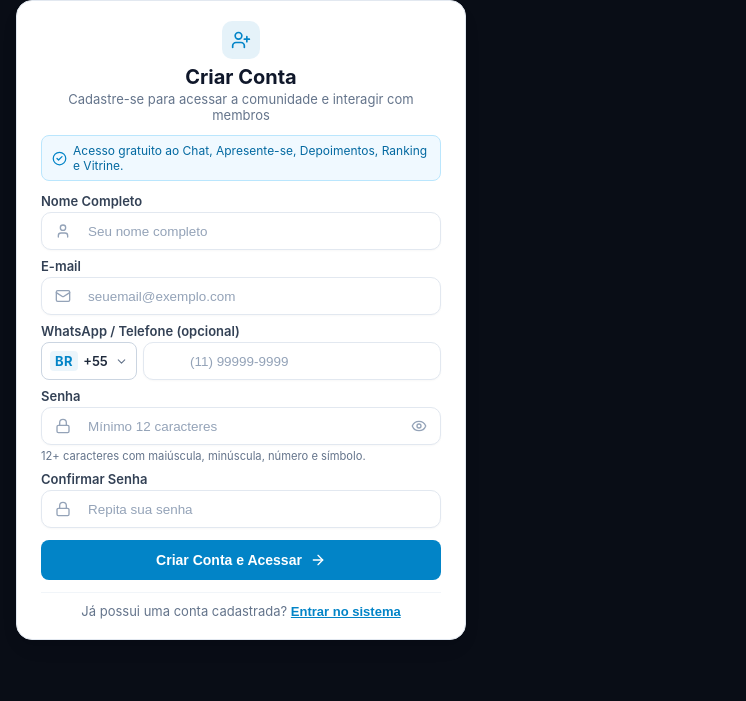
Test: PublicRegisterCard Component › shows error if password and confirm password do not match
Type "Aluno Teste" into the field with test id "register-name-input" at (241, 231), box top-left (41, 212), bottom-right (441, 250)
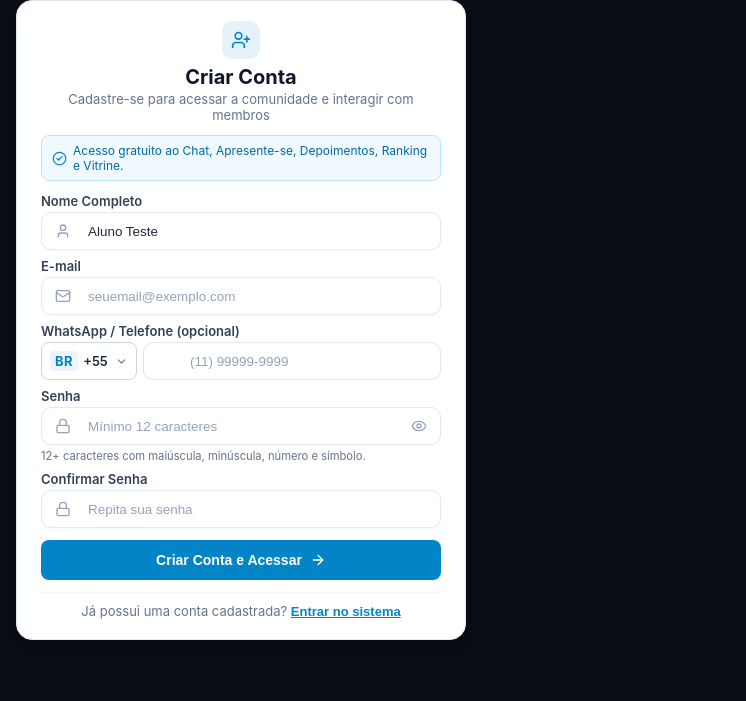
Type "aluno@teste.com" into the field with test id "register-email-input" at (241, 296), box top-left (41, 277), bottom-right (441, 315)
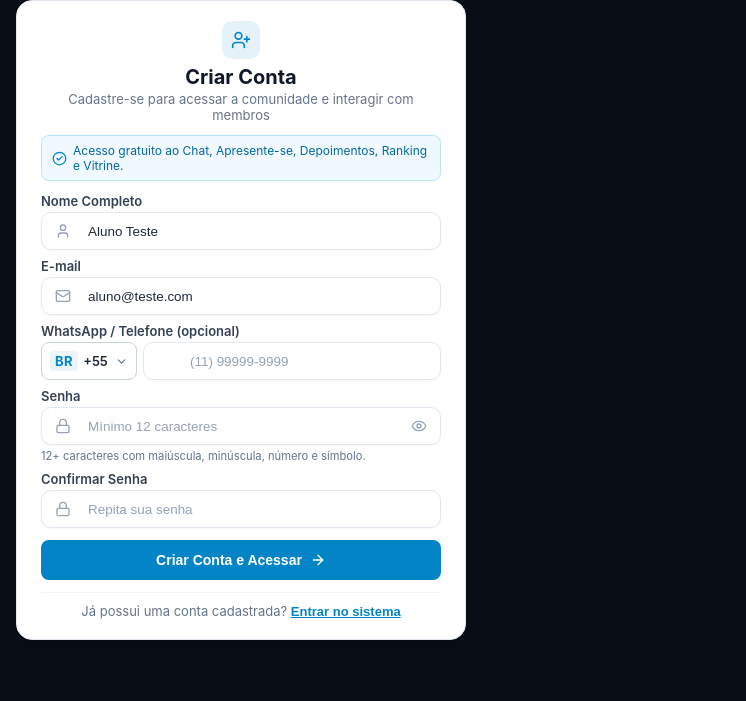
Type "SenhaForte123!" into the password field with test id "register-password-input" at (241, 426), box top-left (41, 407), bottom-right (441, 445)
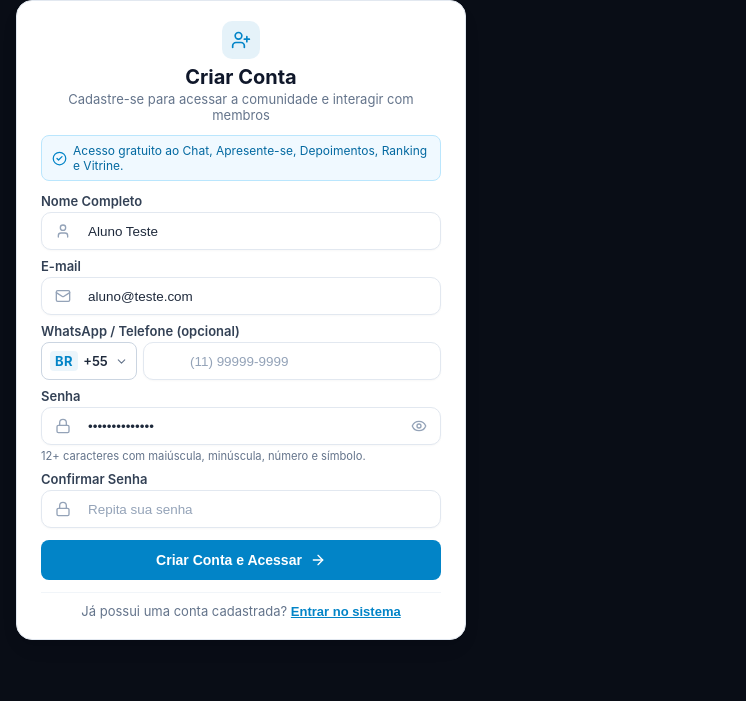
Type "OutraSenha123!" into the password field with test id "register-confirm-password-input" at (241, 509), box top-left (41, 490), bottom-right (441, 528)
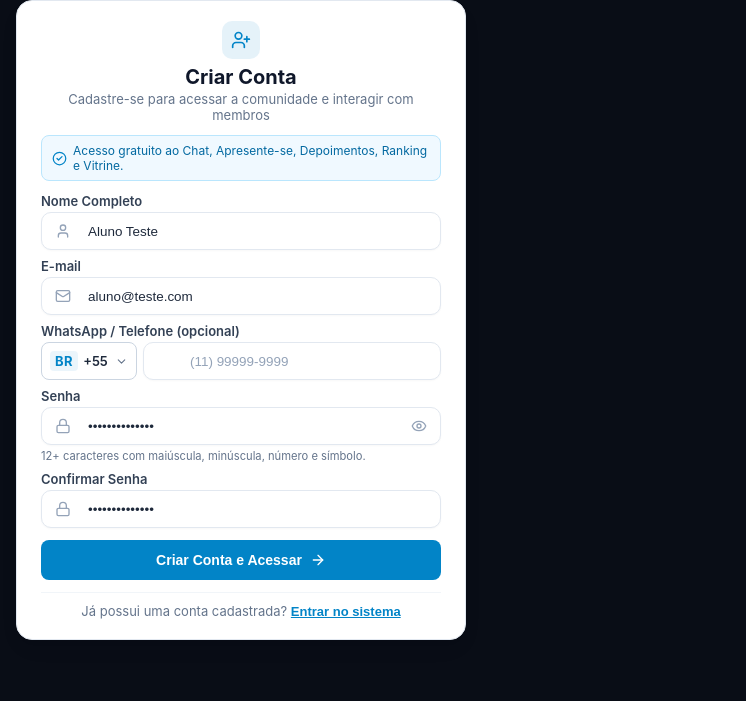
Click the button with test id "register-submit-btn" at (241, 560), box top-left (41, 540), bottom-right (441, 580)
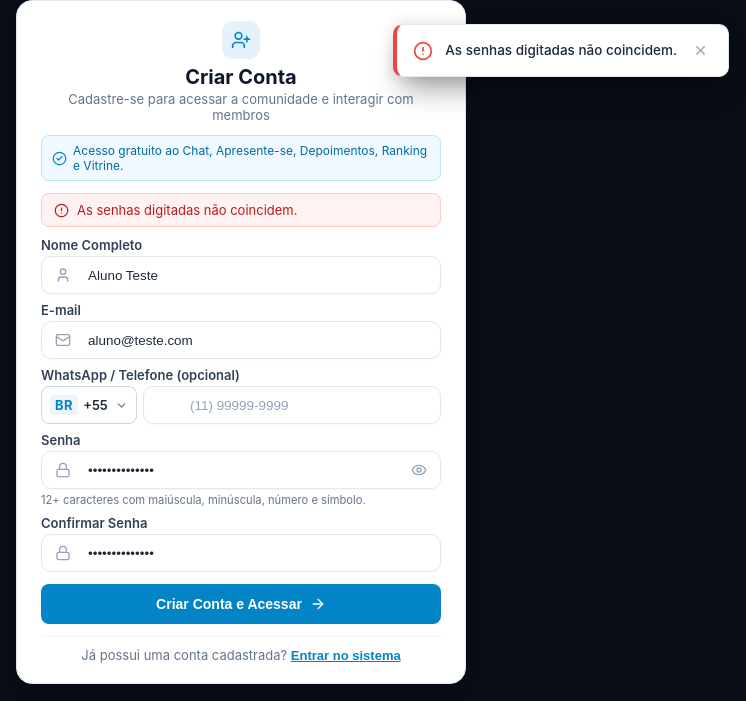
Expected: the element with test id "register-error" reads "As senhas digitadas não coincidem.", top-left (77, 202), bottom-right (298, 218)
